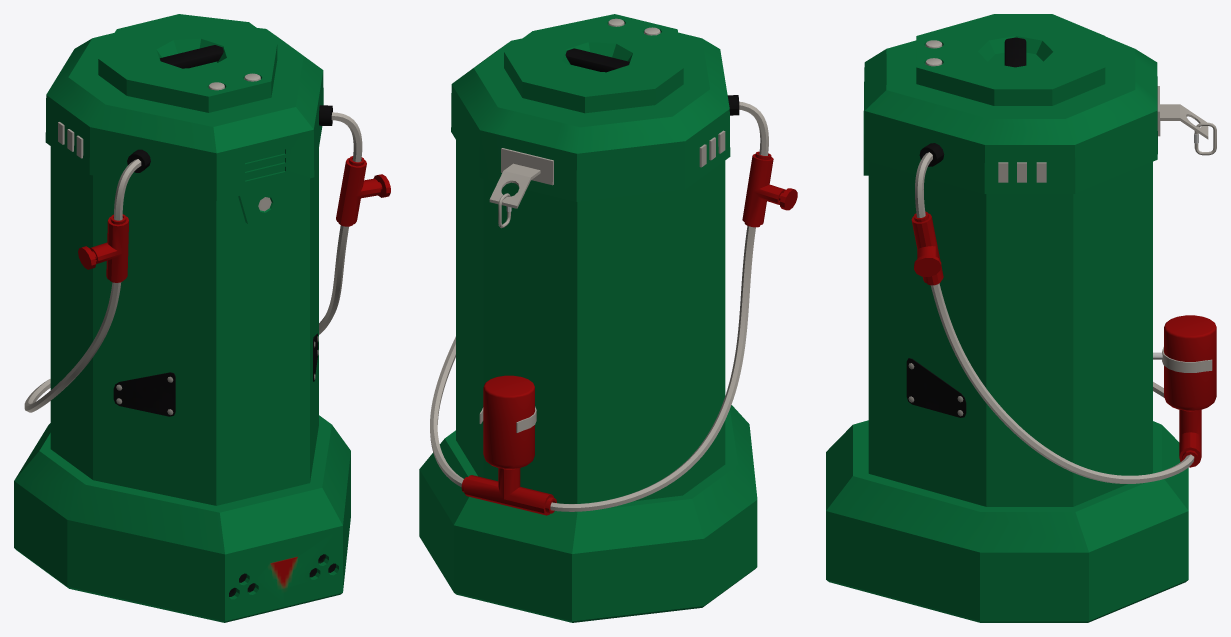
File: Specimen Container.fbx
3 views of the same model, side by side, from view 1: azimuth 30°, elevation 25°; view 2: azimuth 150°, elevation 25°; view 3: azimuth 270°, elevation 25° (orthographic). The views are drawn at different scales.
Parts seen in each view (by area): view 1: Specimen Container; view 2: Specimen Container; view 3: Specimen Container.
Part boxes in pixels (x1,y1,x2,y2): Specimen Container: [14, 14, 390, 622]; Specimen Container: [419, 14, 797, 622]; Specimen Container: [826, 14, 1216, 622].
Size of the model in its own units: 76.08 by 118 by 83.41.
